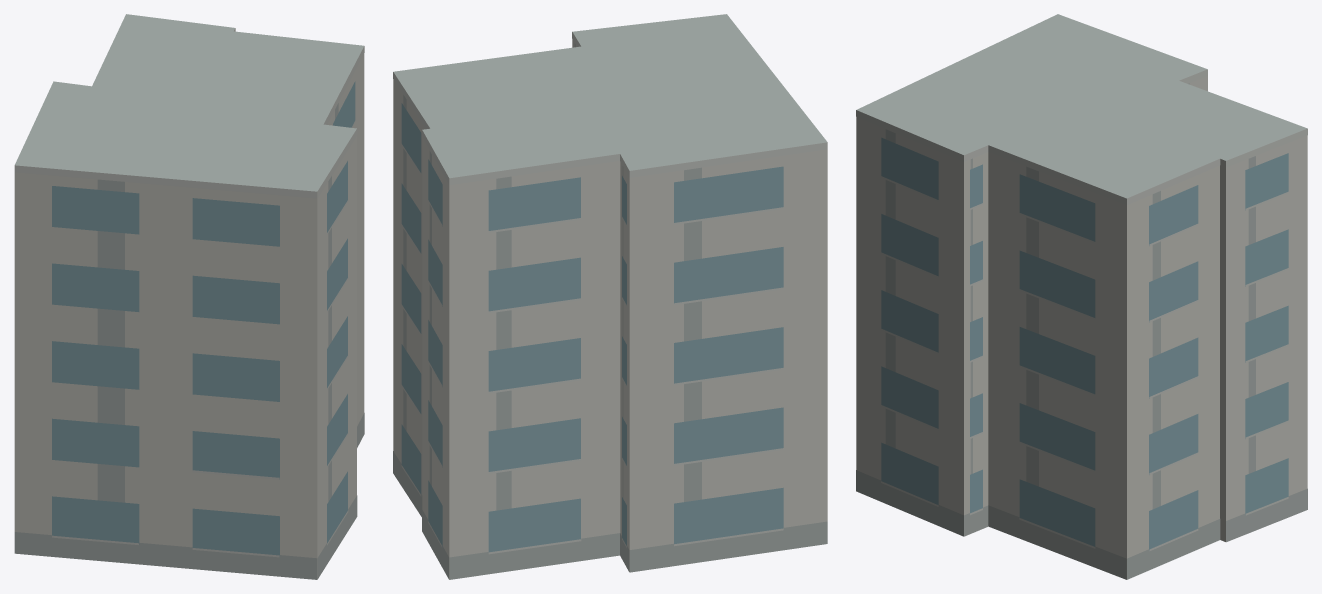
The model's file is survey-upis-32835410.glb.
3 renders of one model, left to right at view 1: azimuth 30°, elevation 25°; view 2: azimuth 150°, elevation 25°; view 3: azimuth 270°, elevation 25°, orthographic. The views are drawn at different scales.
Parts seen in each view (by area): view 1: survey-upis-32835410.tmp; view 2: survey-upis-32835410.tmp; view 3: survey-upis-32835410.tmp.
Boxes of the visible parts, x1,y1,x2,y2 form: survey-upis-32835410.tmp: (14,14,364,579); survey-upis-32835410.tmp: (393,14,827,579); survey-upis-32835410.tmp: (856,14,1307,579).
Size of the model in its own units: 14.23 by 13.7 by 14.71.
